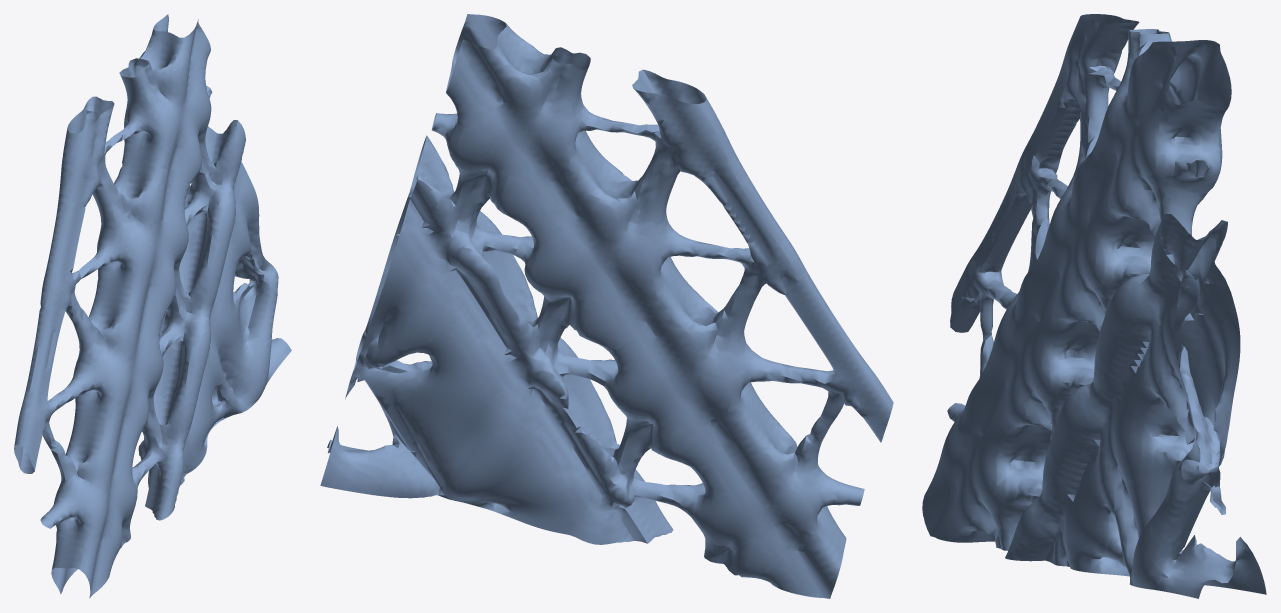
The model's file is detail.classical.von_mises.p90.glb.
3 views of the same model, side by side, from view 1: azimuth 30°, elevation 25°; view 2: azimuth 150°, elevation 25°; view 3: azimuth 270°, elevation 25° (orthographic). The views are drawn at different scales.
Parts seen in each view (by area): view 1: detail.classical.von_mises.p90; view 2: detail.classical.von_mises.p90; view 3: detail.classical.von_mises.p90.
Part boxes in pixels (x1,y1,x2,y2): detail.classical.von_mises.p90: (14,14,291,598); detail.classical.von_mises.p90: (320,14,893,598); detail.classical.von_mises.p90: (922,14,1266,598).
Bounding box in the file's own units: 1.61 × 1.98 × 0.9872.
